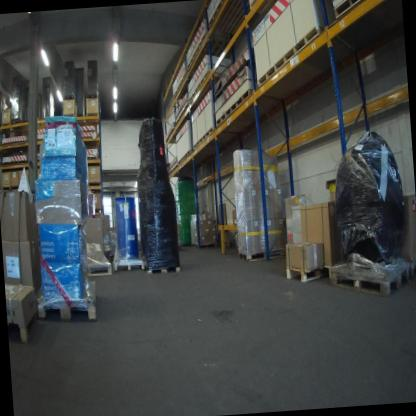pallet: (330, 256, 416, 306), (34, 291, 98, 326), (238, 245, 287, 264), (112, 247, 145, 274), (144, 261, 181, 276), (85, 261, 113, 279), (191, 240, 218, 250), (10, 119, 20, 125), (87, 94, 98, 99), (64, 95, 74, 100)
